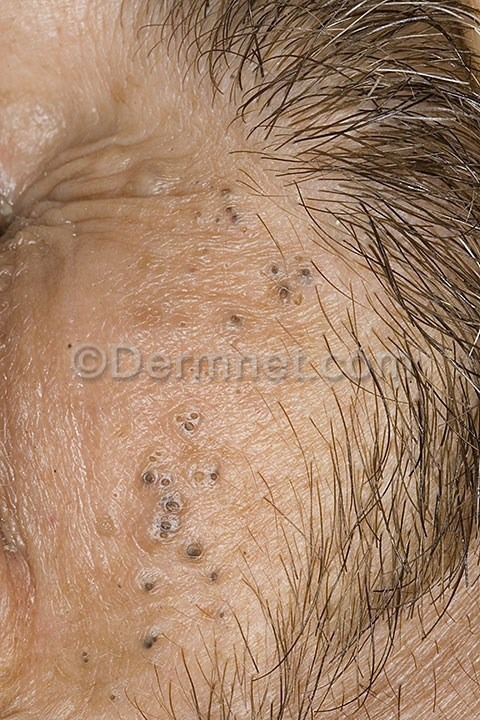Melasma: (77, 404, 234, 720), (116, 149, 317, 328), (0, 492, 45, 612)
